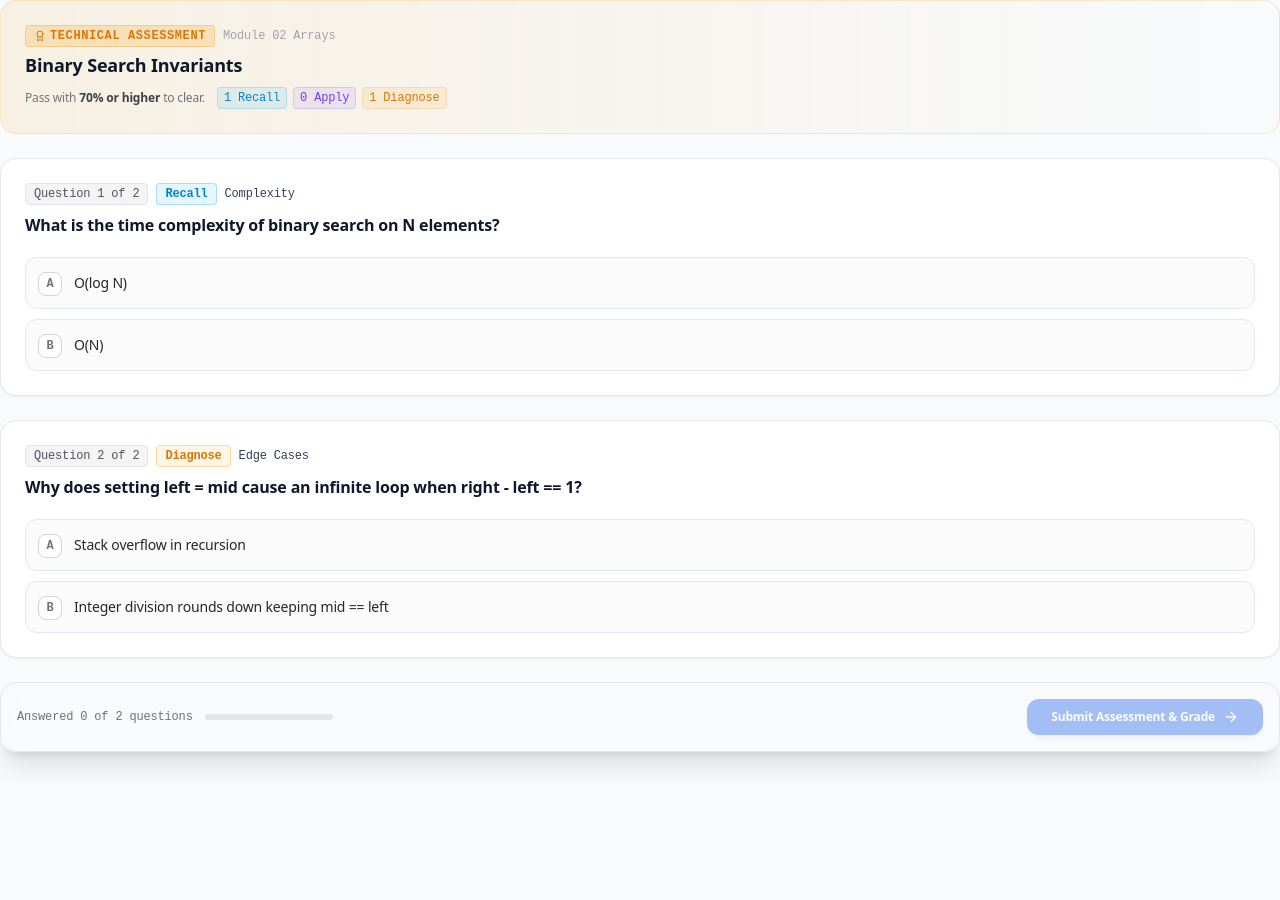
McqQuizView Component › allows checking individual answer and revealing explanation drawer
The width and height of the screenshot is (1280, 900).
Expected: the heading "What is the time complexity of binary search on N elements?" is shown, [25, 209, 500, 237]
Select option
Click the text "O(log N)" at (100,282), box [74, 273, 127, 292]
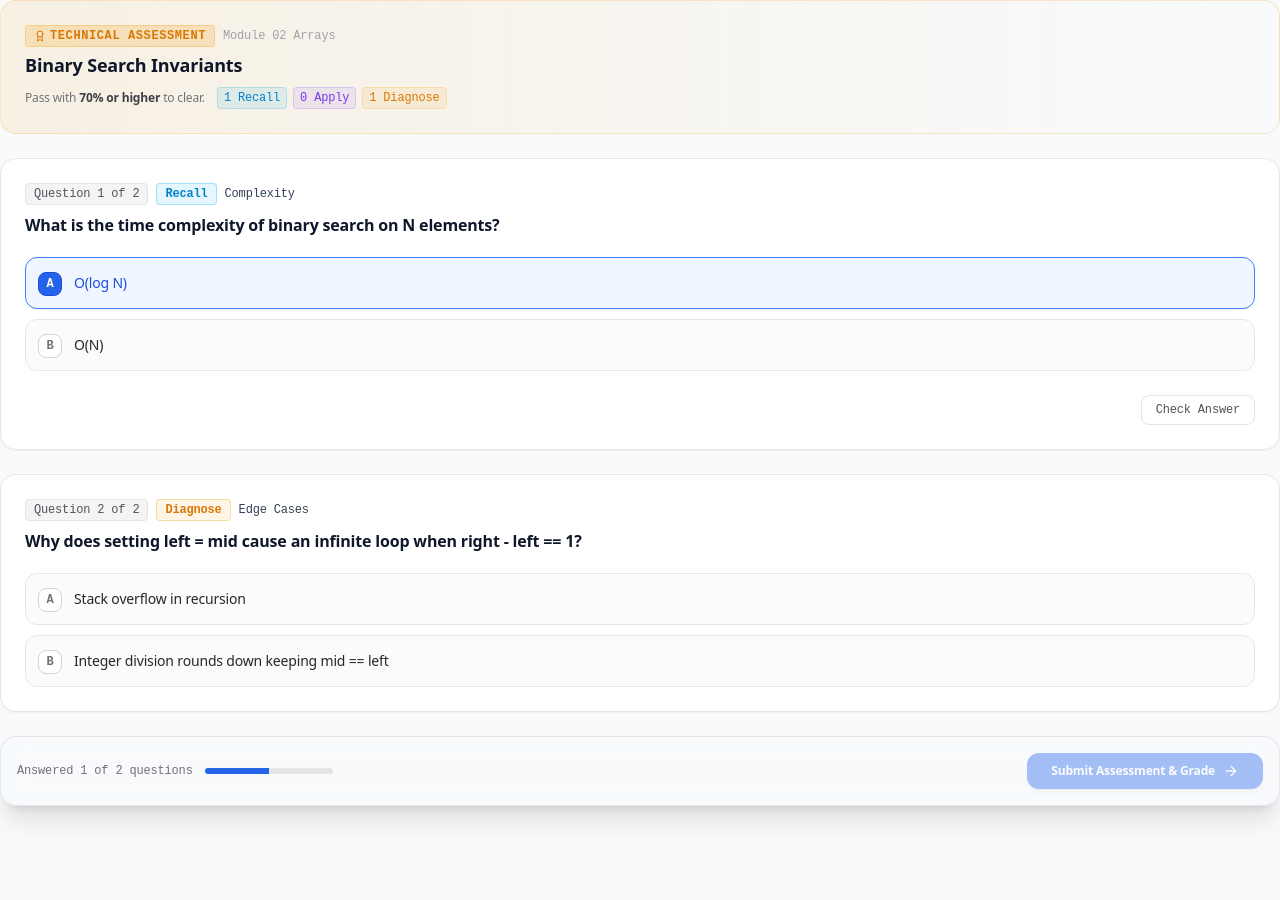
Click Check Answer
Click the button "Check Answer" at (1198,410), box [1141, 395, 1255, 425]
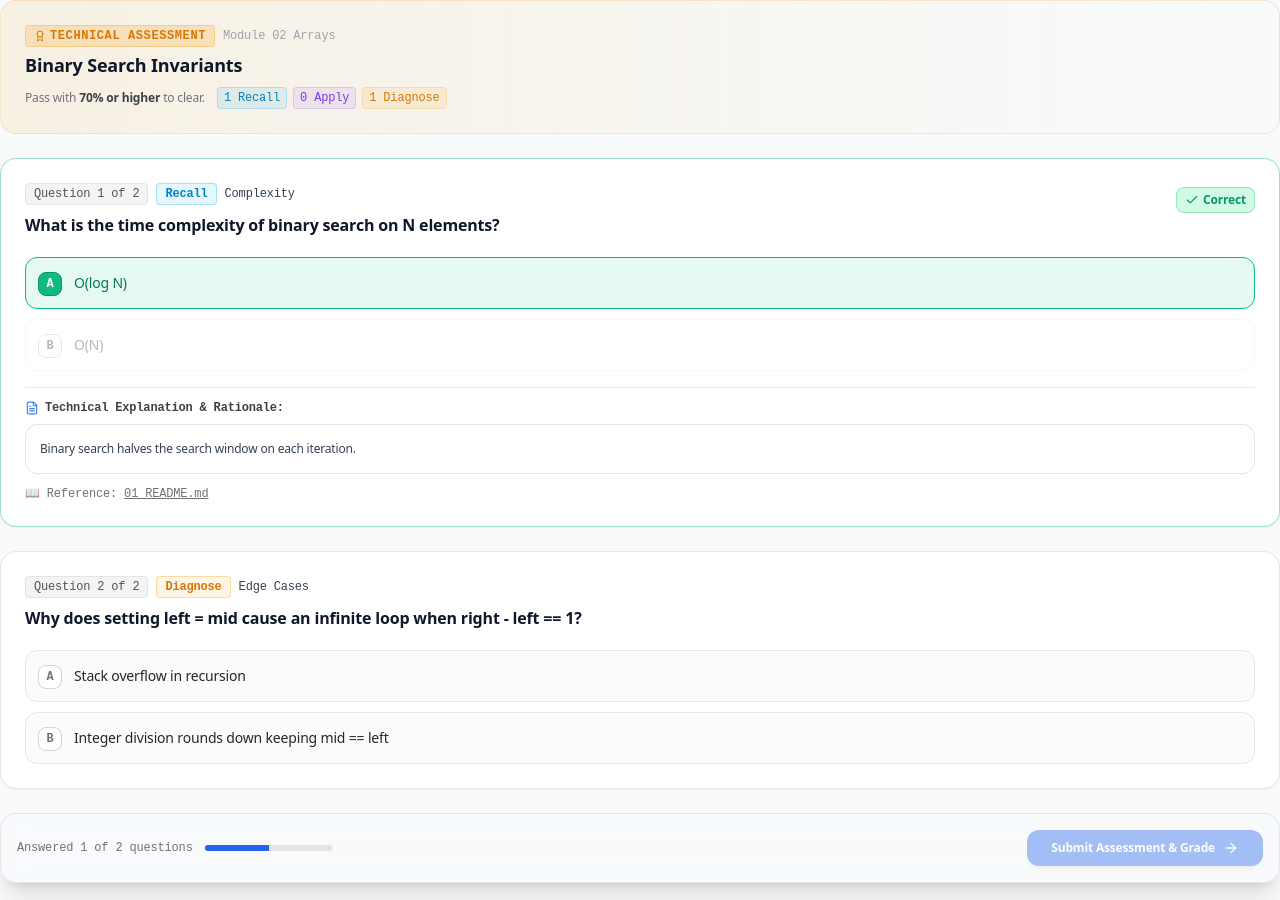
Result: the text "Technical Explanation & Rationale:" is shown at [45, 400, 284, 416]
Result: the text "Binary search halves the search window on each iteration." is shown at [25, 424, 1255, 474]
